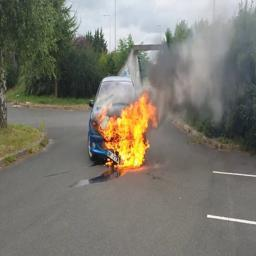fire: (98, 90, 157, 168)
